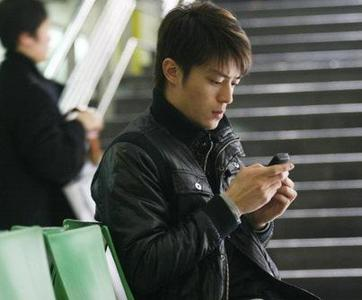person: (91, 3, 320, 300)
